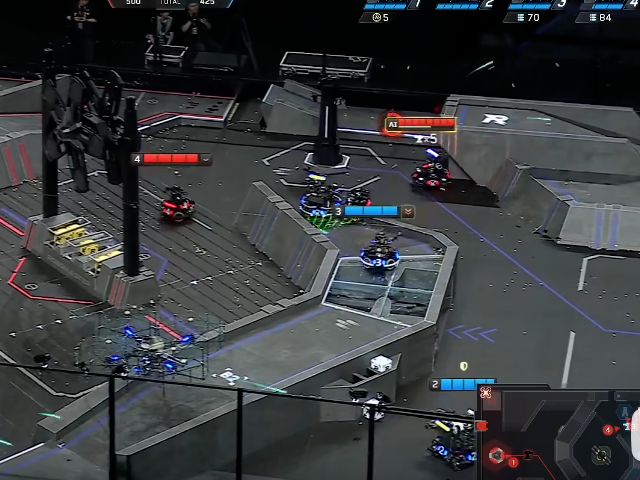rm: (79, 313, 223, 380), (426, 406, 479, 474), (297, 170, 340, 218), (357, 228, 402, 272), (409, 157, 454, 197), (159, 183, 195, 226), (350, 188, 372, 206)
